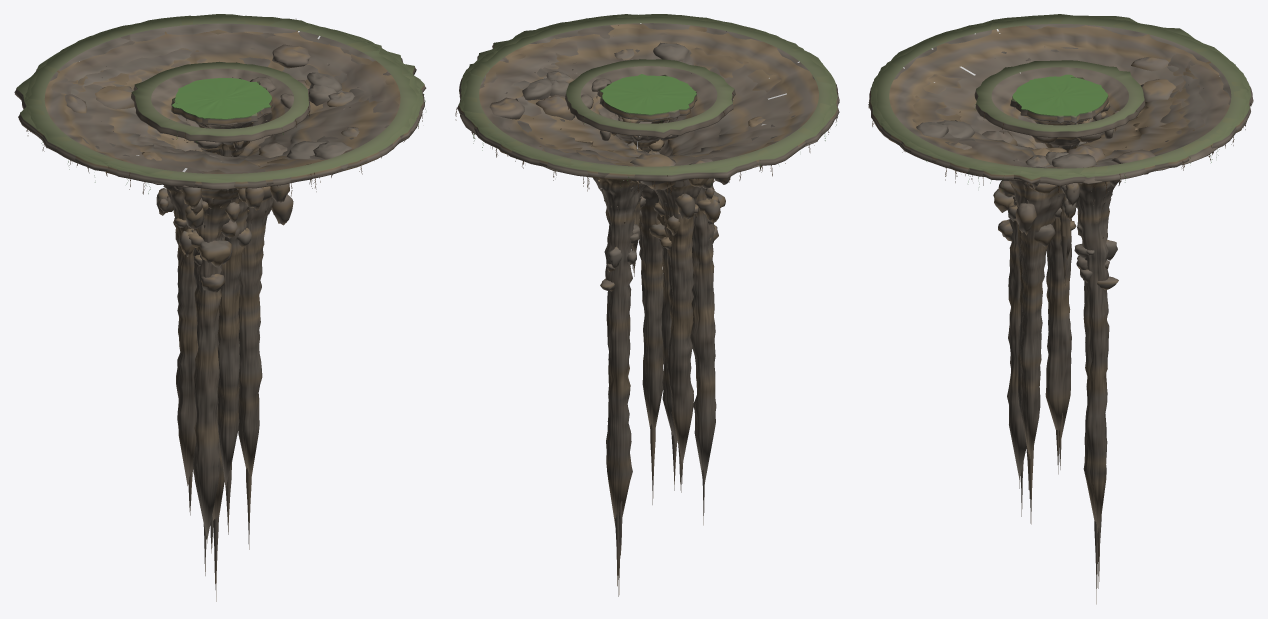
Rendered from arch_vh_island.935d425945.glb.
3 views of the same model, side by side, from view 1: azimuth 30°, elevation 25°; view 2: azimuth 150°, elevation 25°; view 3: azimuth 270°, elevation 25° (orthographic). The views are drawn at different scales.
Parts seen in each view (by area): view 1: vhrock_loi_van_dao, vhrock_kinh_ngu_dai, vhrock_thach_quy_dao, vhrock_kinh_ho_dao, vhrock_tung_dai_dao, vhrock_hub, vhfake_a, vhfake_b; view 2: vhrock_kinh_ngu_dai, vhrock_loi_van_dao, vhrock_tung_dai_dao, vhrock_thach_quy_dao, vhrock_hub, vhrock_kinh_ho_dao, vhfake_a, vhfake_b; view 3: vhrock_kinh_ngu_dai, vhrock_loi_van_dao, vhrock_thach_quy_dao, vhrock_tung_dai_dao, vhrock_hub, vhrock_kinh_ho_dao, vhfake_a, vhfake_b.
Boxes of the visible parts, x1,y1,x2,y2 form: vhrock_loi_van_dao: [26, 16, 417, 575]; vhrock_kinh_ngu_dai: [27, 15, 424, 601]; vhrock_thach_quy_dao: [14, 14, 425, 549]; vhrock_kinh_ho_dao: [24, 15, 421, 534]; vhrock_tung_dai_dao: [25, 15, 426, 515]; vhrock_hub: [131, 61, 310, 156]; vhfake_a: [171, 78, 272, 156]; vhfake_b: [175, 78, 271, 150]; vhrock_kinh_ngu_dai: [460, 14, 838, 596]; vhrock_loi_van_dao: [460, 16, 836, 525]; vhrock_tung_dai_dao: [455, 15, 839, 492]; vhrock_thach_quy_dao: [459, 14, 839, 504]; vhrock_hub: [565, 59, 735, 276]; vhrock_kinh_ho_dao: [458, 14, 836, 490]; vhfake_a: [599, 76, 697, 123]; vhfake_b: [601, 74, 696, 123]; vhrock_kinh_ngu_dai: [872, 15, 1249, 604]; vhrock_loi_van_dao: [876, 14, 1253, 516]; vhrock_thach_quy_dao: [870, 14, 1252, 524]; vhrock_tung_dai_dao: [868, 15, 1247, 474]; vhrock_hub: [974, 60, 1145, 285]; vhrock_kinh_ho_dao: [868, 15, 1250, 498]; vhfake_a: [1012, 74, 1108, 125]; vhfake_b: [1015, 77, 1110, 125].
Size of the model in its own units: 471 by 663 by 459.
